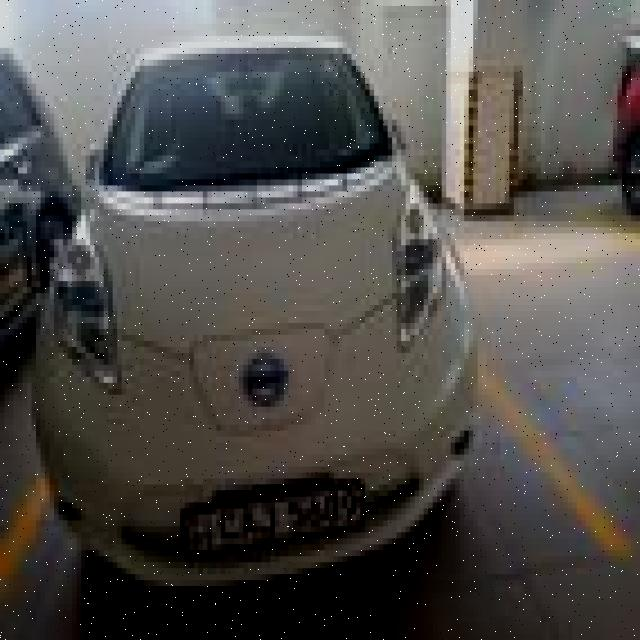car: (22, 42, 480, 584)
